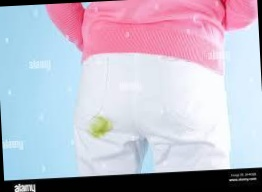earth: (90, 116, 114, 138)
